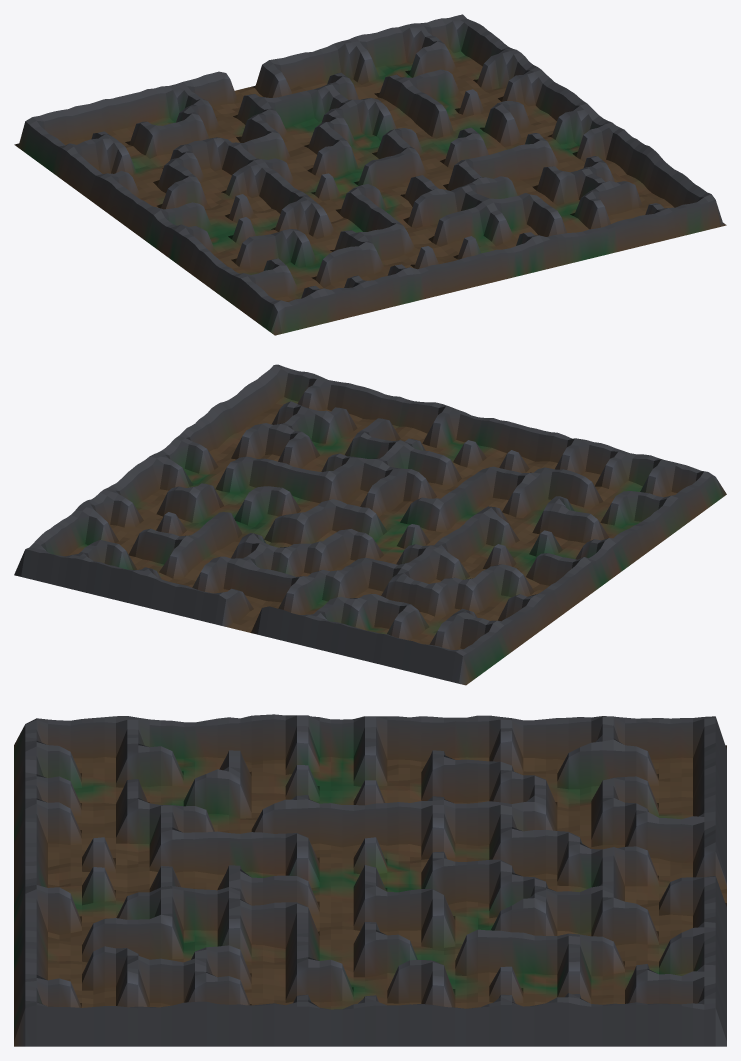
The model's file is map_21_21_23.fbx.
3 renders of one model, top to bottom at view 1: azimuth 30°, elevation 25°; view 2: azimuth 150°, elevation 25°; view 3: azimuth 270°, elevation 25°, orthographic. The views are drawn at different scales.
Parts seen in each view (by area): view 1: Plane; view 2: Plane; view 3: Plane.
Boxes of the visible parts, box(x1,y1,x2,y2) form: Plane: box(14, 14, 726, 335); Plane: box(14, 364, 726, 685); Plane: box(14, 714, 726, 1046).
Bounding box in the file's own units: 100 × 6.8 × 100.
